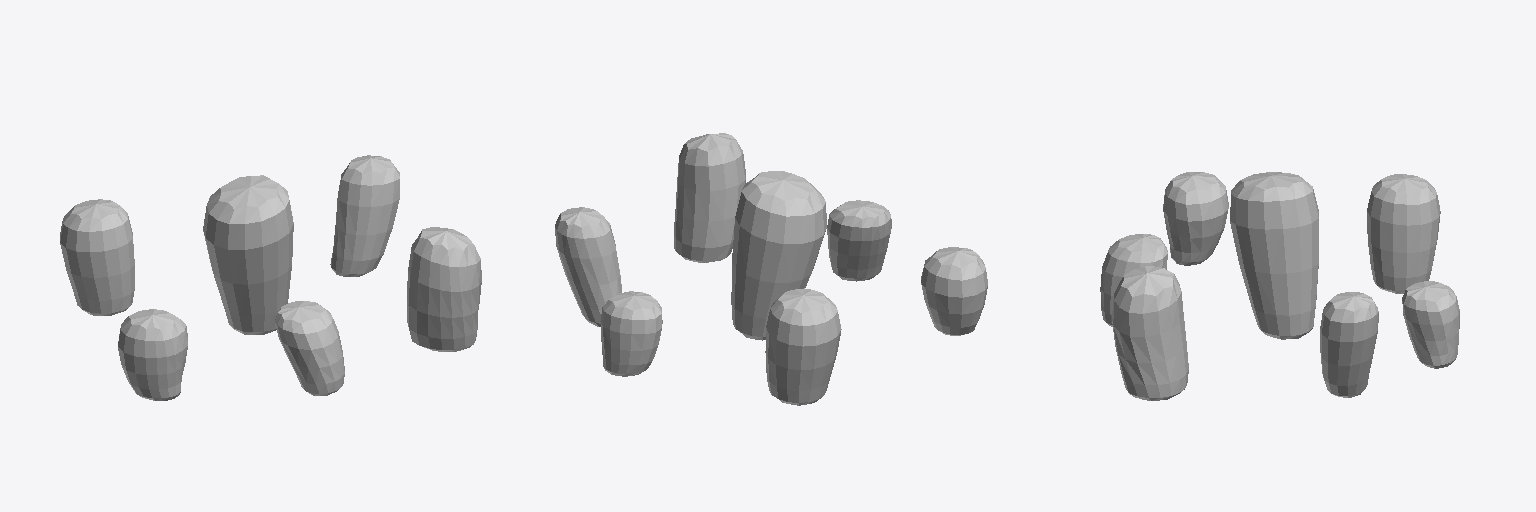
The model's file is plant1.obj.
3 renders of one model, left to right at view 1: azimuth 30°, elevation 25°; view 2: azimuth 150°, elevation 25°; view 3: azimuth 270°, elevation 25°, orthographic.
Visible parts, largest first — view 1: coral_09; view 2: coral_09; view 3: coral_09.
Part boxes in pixels (x1,y1,x2,y2): coral_09: (60, 155, 481, 400); coral_09: (555, 133, 987, 405); coral_09: (1100, 172, 1459, 400).
Size of the model in its own units: 0.3614 by 0.1488 by 0.3212.